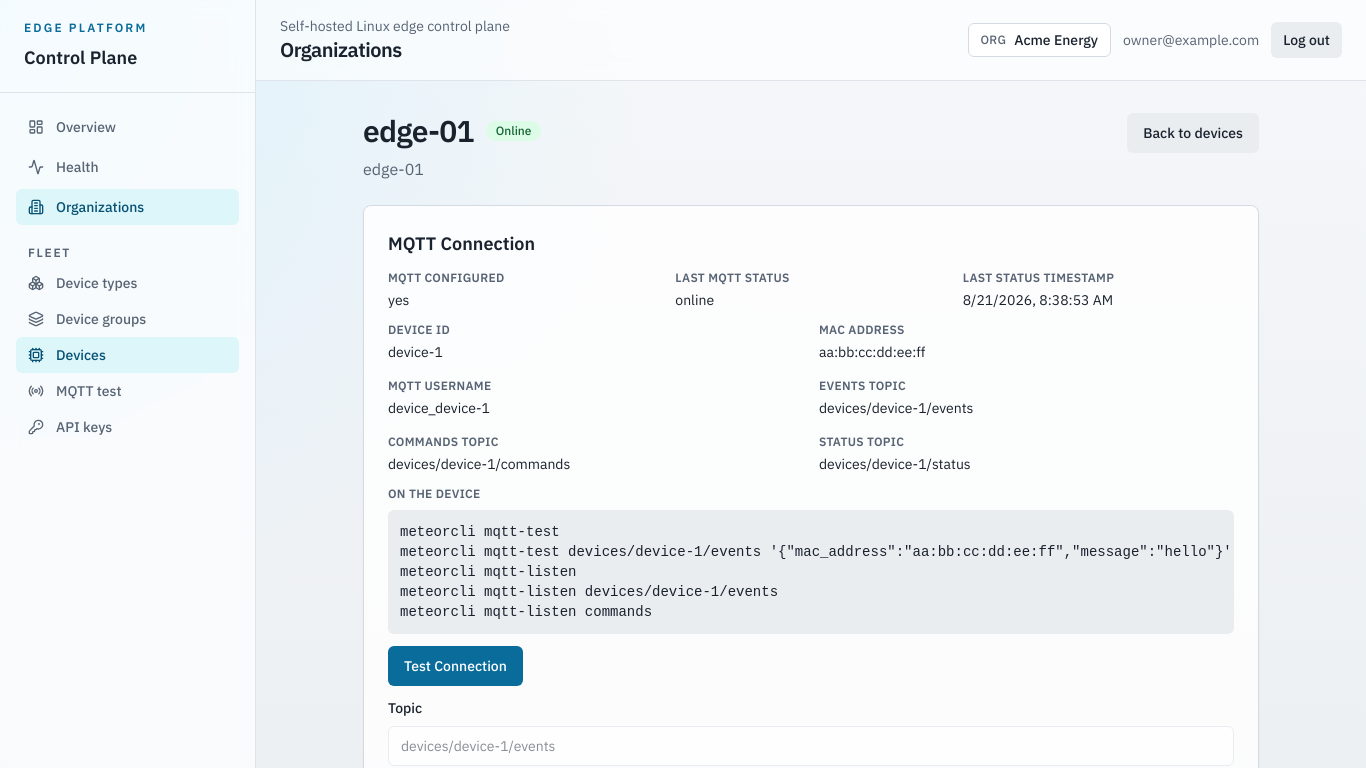
Test case: Device detail › sends an MQTT ping from the device detail page
The image size is (1366, 768).
expect the heading "MQTT Connection" is shown: met, box [388,232,535,255]
expect the text "aa:bb:cc:dd:ee:ff" is shown: met, box [819,343,925,361]
Click the button "Test Connection" at [455, 666], box [388,646,523,686]
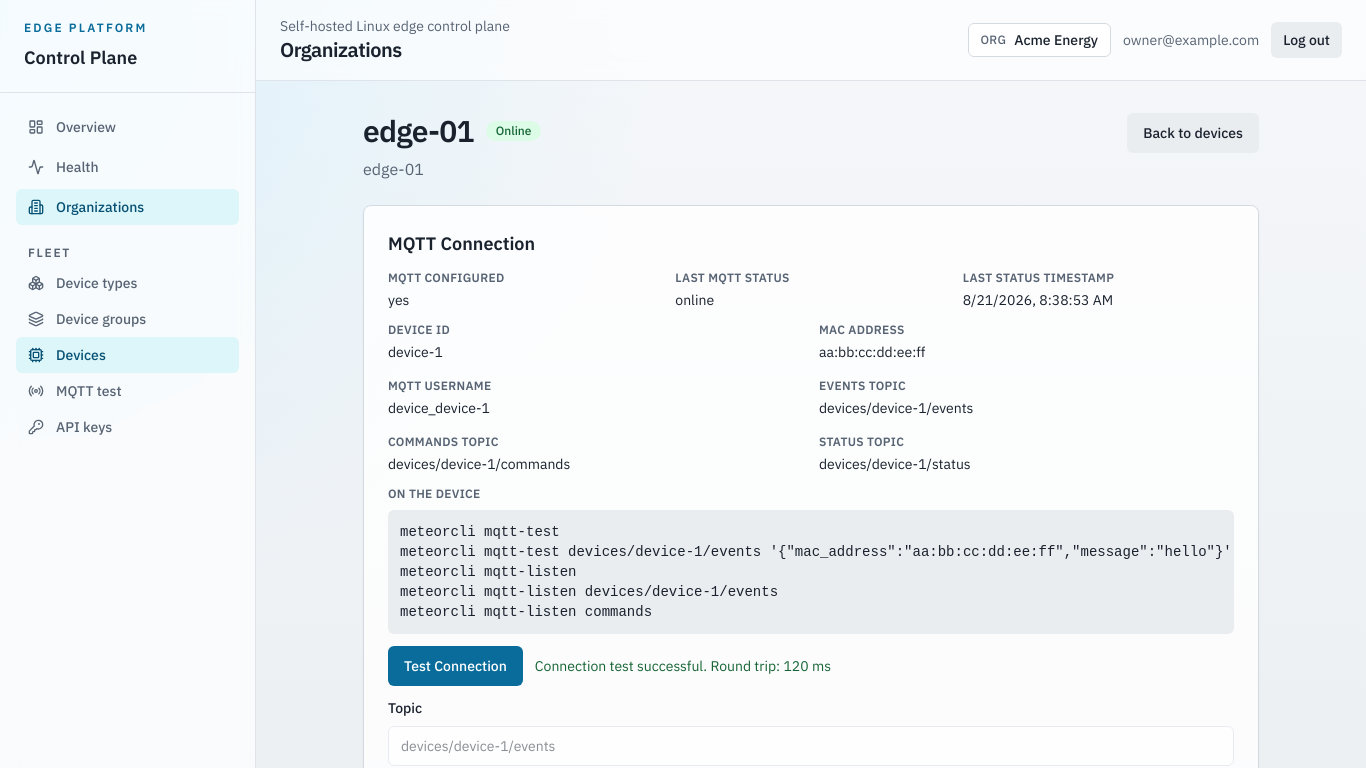
expect the text "Connection test successful. Round trip: 120 ms" is shown: met, box [535,656,831,676]
